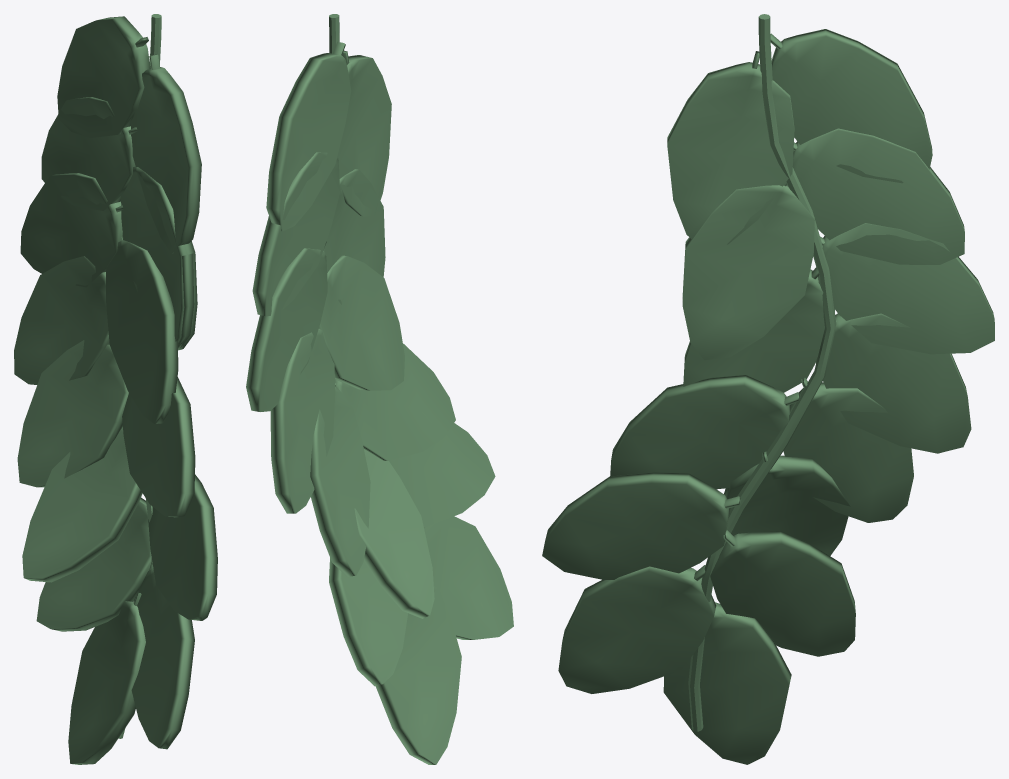
Rendered from 001_Vine_001.fbx.
3 renders of one model, left to right at view 1: azimuth 30°, elevation 25°; view 2: azimuth 150°, elevation 25°; view 3: azimuth 270°, elevation 25°, orthographic. The views are drawn at different scales.
Parts seen in each view (by area): view 1: Vine_01; view 2: Vine_01; view 3: Vine_01.
Part boxes in pixels (<box>): Vine_01: <box>14,14,217,764</box>; Vine_01: <box>246,14,513,764</box>; Vine_01: <box>542,14,994,764</box>.
Size of the model in its own units: 52.74 by 308 by 159.
